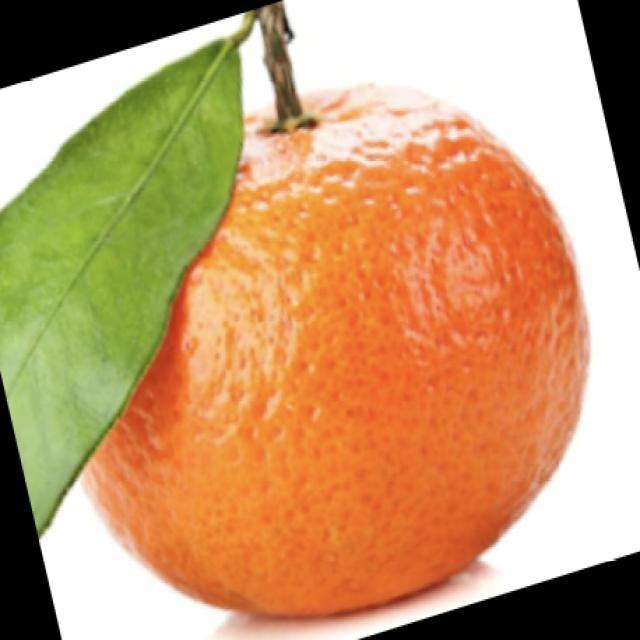matang: (88, 86, 587, 615)
